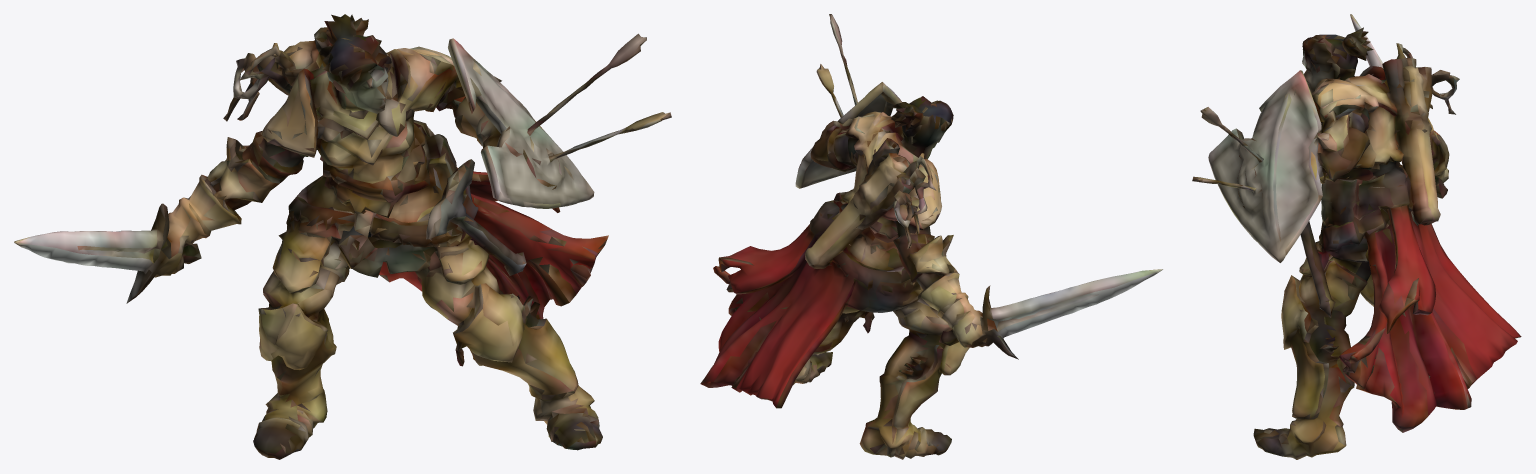
File: Irabeth_final.glb
3 views of the same model, side by side, from view 1: azimuth 30°, elevation 25°; view 2: azimuth 150°, elevation 25°; view 3: azimuth 270°, elevation 25° (orthographic). The views are drawn at different scales.
Parts seen in each view (by area): view 1: Mesh_0; view 2: Mesh_0; view 3: Mesh_0.
Boxes of the visible parts, <box> form: Mesh_0: <box>14,14,671,459</box>; Mesh_0: <box>700,14,1162,459</box>; Mesh_0: <box>1192,14,1521,459</box>.
Size of the model in its own units: 2.54 by 1.8 by 1.52.
Materials: 1 (1 with a texture image).
